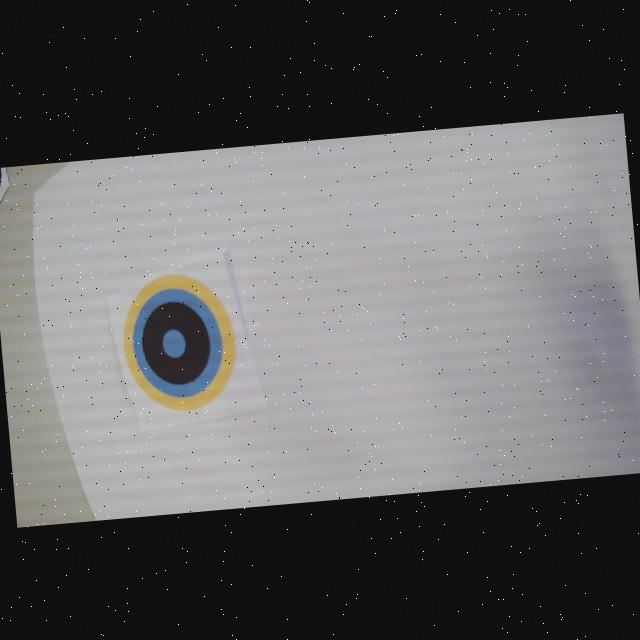COGNITIVE: (117, 270, 242, 416)
